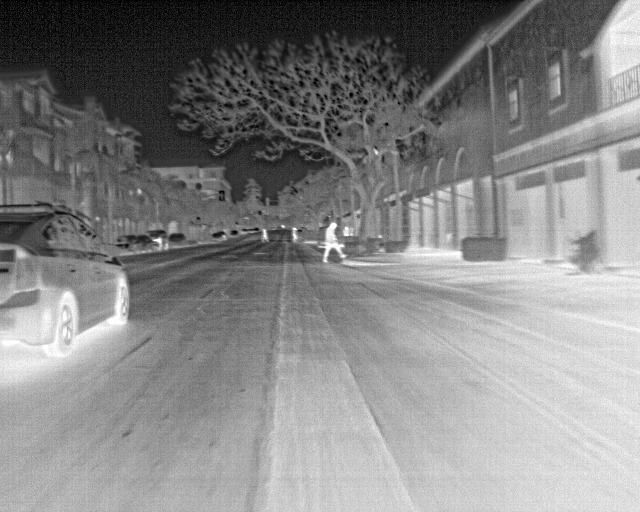bicycle: (2, 201, 137, 359), (127, 235, 159, 255), (145, 228, 169, 252), (165, 230, 189, 249), (208, 230, 224, 243)
empty: (320, 220, 351, 266), (289, 224, 301, 246), (258, 226, 270, 246)
